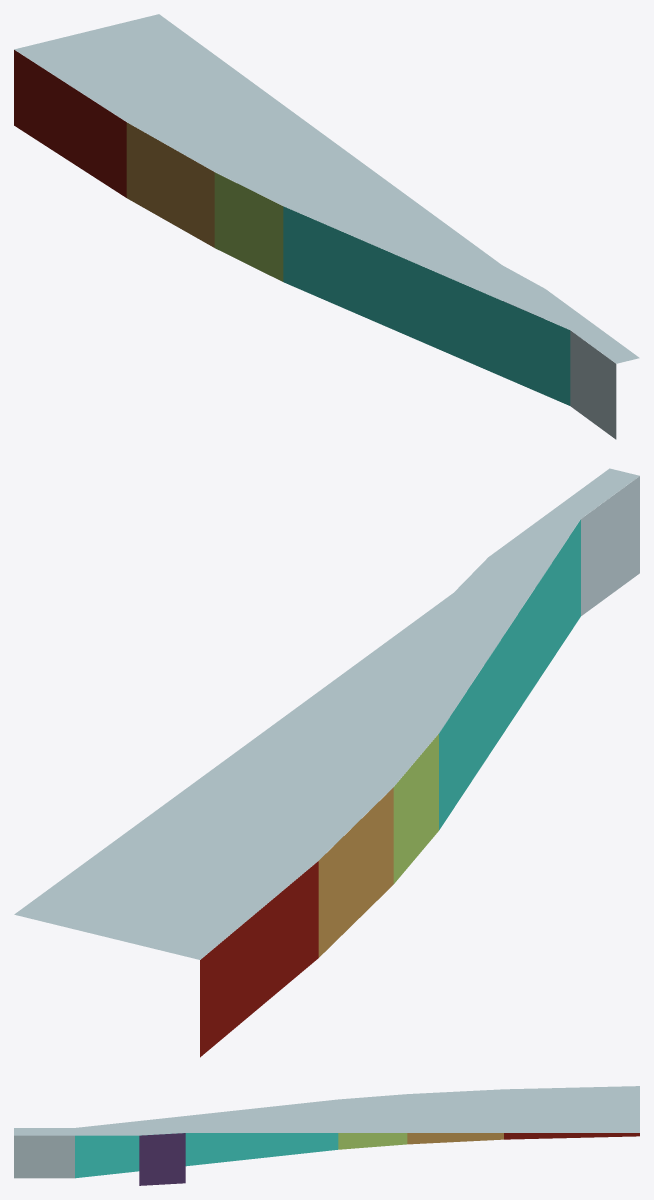
Rendered from scramjet_n4_m2.glb.
3 renders of one model, top to bottom at view 1: azimuth 30°, elevation 25°; view 2: azimuth 150°, elevation 25°; view 3: azimuth 270°, elevation 25°, orthographic. The views are drawn at different scales.
Visible parts, largest first — view 1: mesh0; view 2: mesh0; view 3: mesh0.
Part boxes in pixels (bbox=[...]): mesh0: bbox=[14, 14, 639, 439]; mesh0: bbox=[14, 468, 639, 1057]; mesh0: bbox=[14, 1086, 639, 1185].
Size of the model in its own units: 1.06 by 0.5007 by 5.64.
